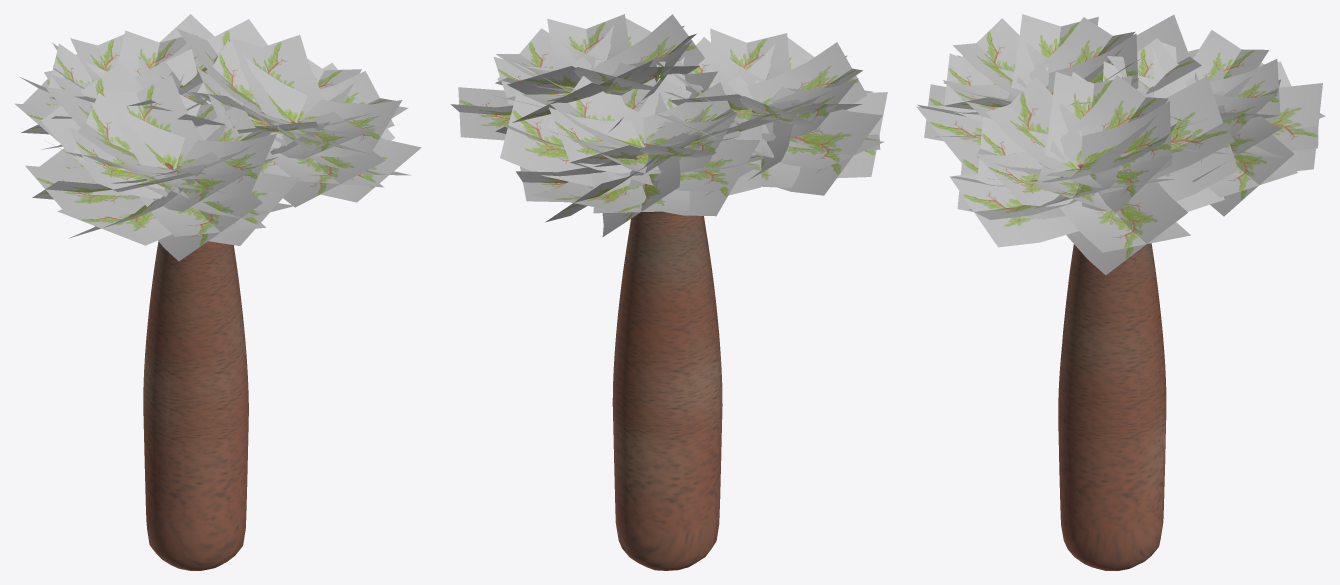
The model's file is BaobabWood_02.fbx.
3 views of the same model, side by side, from view 1: azimuth 30°, elevation 25°; view 2: azimuth 150°, elevation 25°; view 3: azimuth 270°, elevation 25° (orthographic). The views are drawn at different scales.
Parts seen in each view (by area): view 1: BaobabWood_02; view 2: BaobabWood_02; view 3: BaobabWood_02.
Part boxes in pixels (left/top/right/bottom): BaobabWood_02: left=14, top=14, right=421, bottom=570; BaobabWood_02: left=450, top=14, right=887, bottom=570; BaobabWood_02: left=916, top=14, right=1325, bottom=570.
Bounding box in the file's own units: 903 × 1121 × 829.
